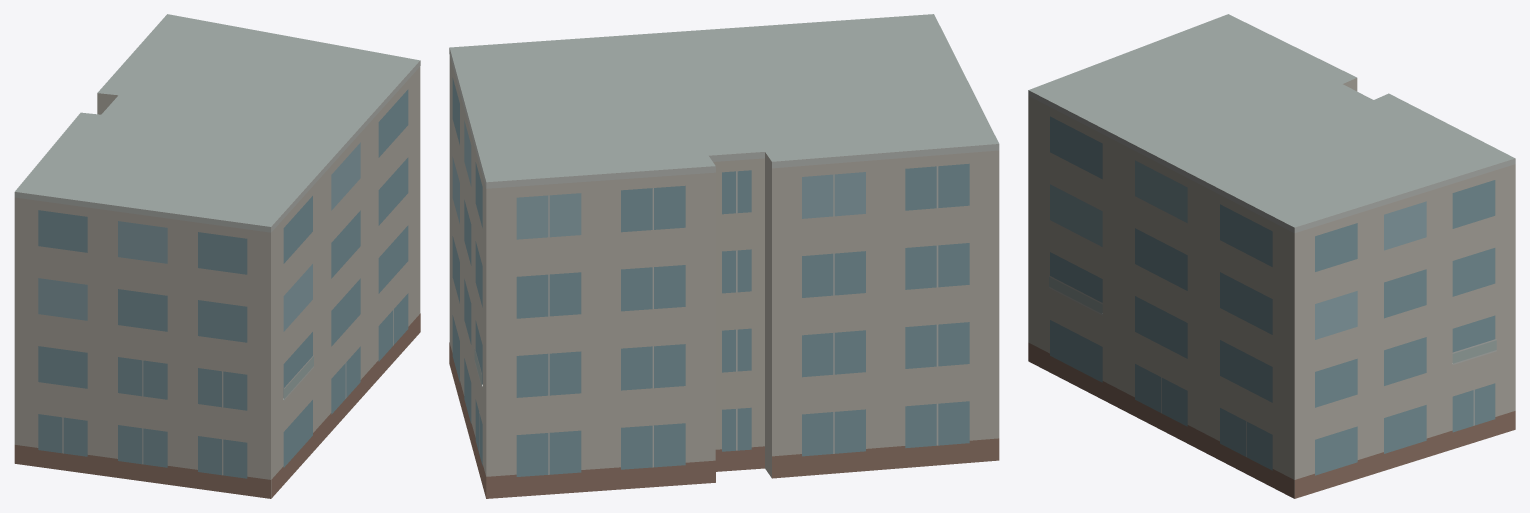
File: survey-upis-33046344.glb
The picture shows the model from 3 angles, left to right: view 1: azimuth 30°, elevation 25°; view 2: azimuth 150°, elevation 25°; view 3: azimuth 270°, elevation 25°; orthographic projection. The views are drawn at different scales.
Parts seen in each view (by area): view 1: survey-upis-33046344.tmp; view 2: survey-upis-33046344.tmp; view 3: survey-upis-33046344.tmp.
Boxes of the visible parts, x1,y1,x2,y2 form: survey-upis-33046344.tmp: (14, 14, 420, 498); survey-upis-33046344.tmp: (449, 14, 999, 498); survey-upis-33046344.tmp: (1028, 14, 1515, 498).
Size of the model in its own units: 19.78 by 11.7 by 19.05.
